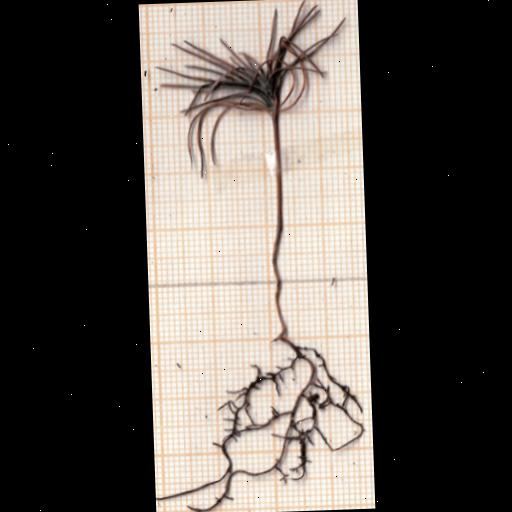flowerCedr: (158, 1, 342, 160)
rootCedr: (157, 334, 364, 512)
stemCedr: (271, 112, 283, 320)
